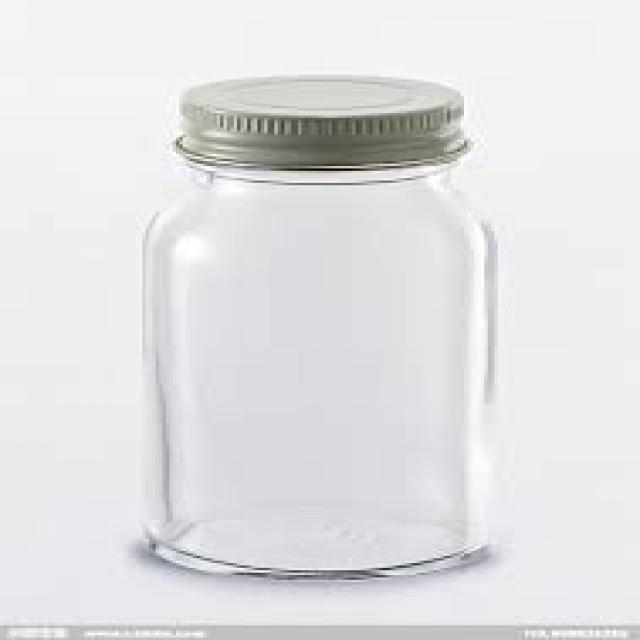Glass-Non-Biodegradable but Recyclable-: (137, 96, 496, 579)
